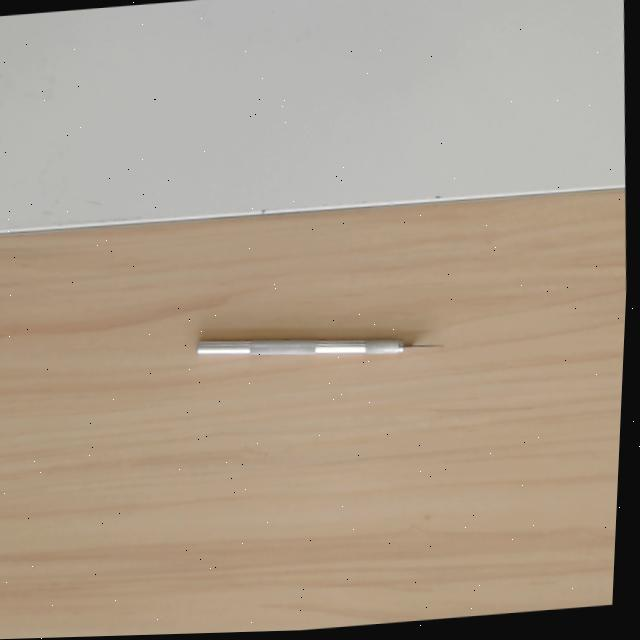Cutter-Kecil: (197, 340, 443, 355)
